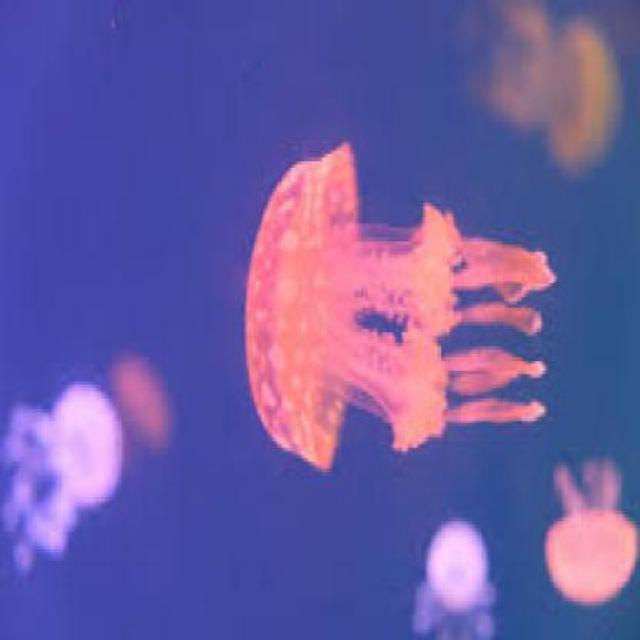Jellyfish: (212, 119, 552, 462), (544, 458, 638, 606)
